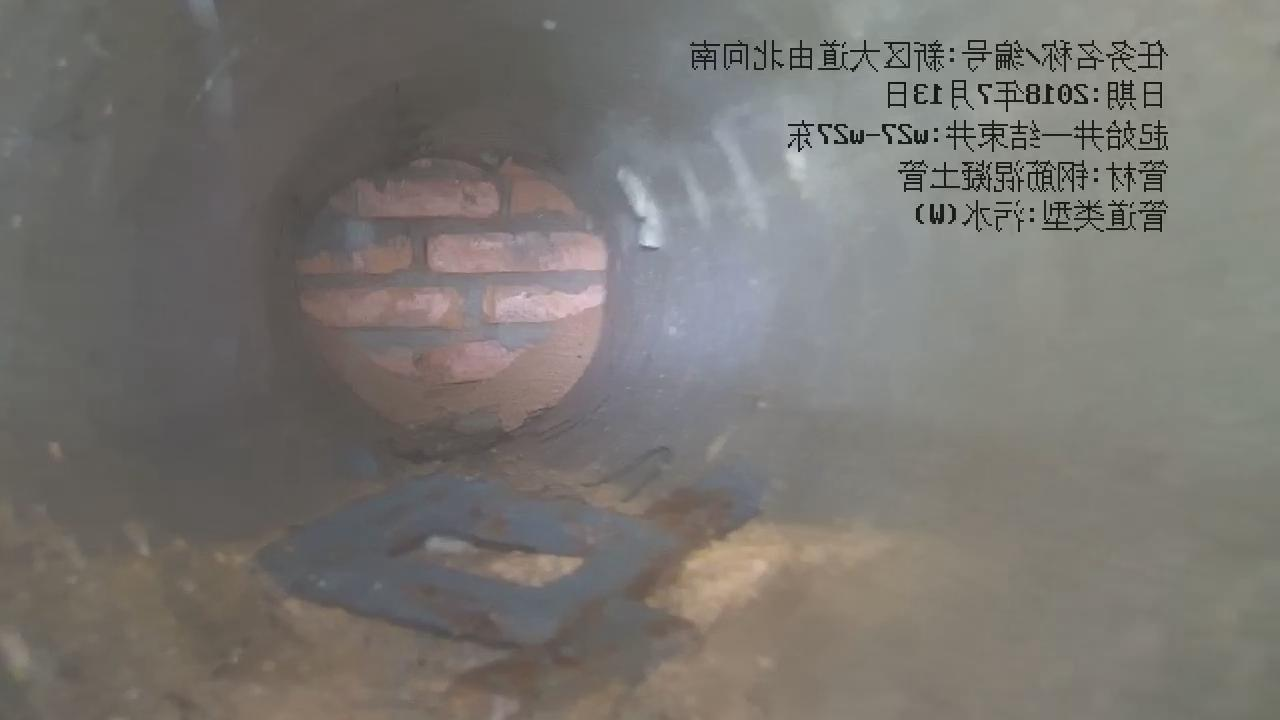CJ: (1, 447, 1000, 719)
CQBG: (296, 156, 609, 427)
